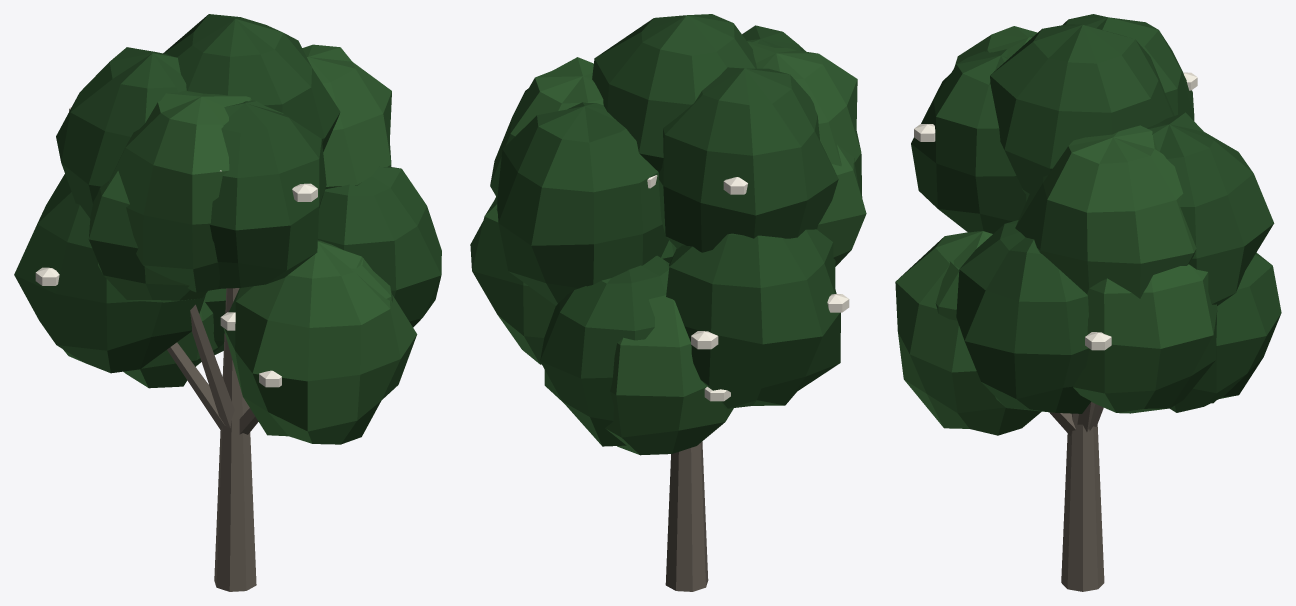
Rendered from tree_magnolia_large.glb.
3 renders of one model, left to right at view 1: azimuth 30°, elevation 25°; view 2: azimuth 150°, elevation 25°; view 3: azimuth 270°, elevation 25°, orthographic.
Parts seen in each view (by area): view 1: tree_magnolia_large; view 2: tree_magnolia_large; view 3: tree_magnolia_large.
Part boxes in pixels (x1,y1,x2,y2): tree_magnolia_large: [14, 14, 441, 591]; tree_magnolia_large: [470, 14, 866, 591]; tree_magnolia_large: [895, 14, 1281, 591].
Size of the model in its own units: 11.86 by 17.93 by 11.25.
